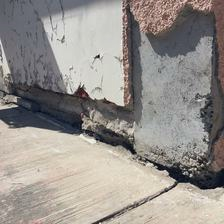spalling: (1, 80, 129, 143)
